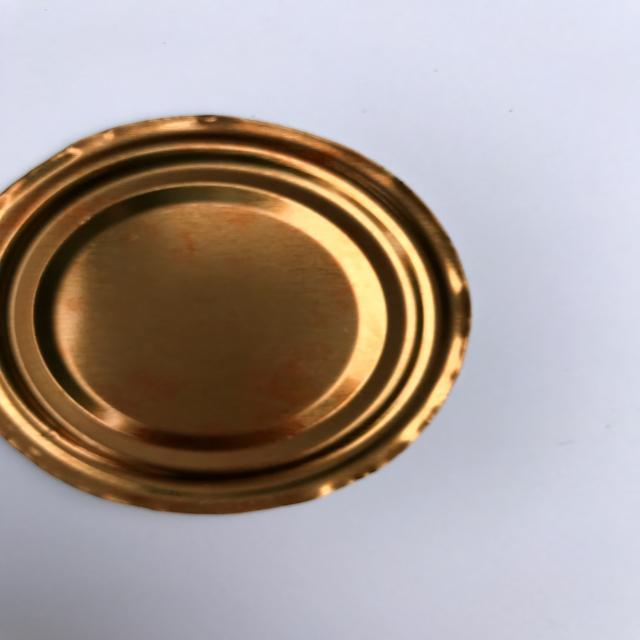metal: (5, 112, 475, 516)
